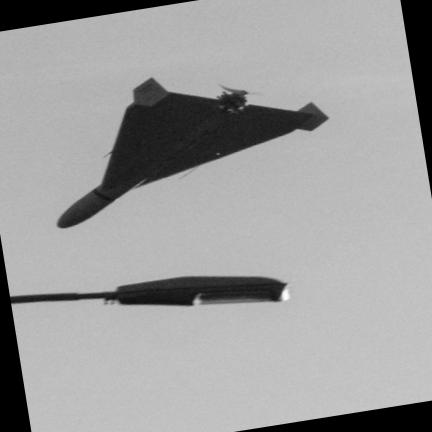Shahed: (57, 79, 326, 228)
